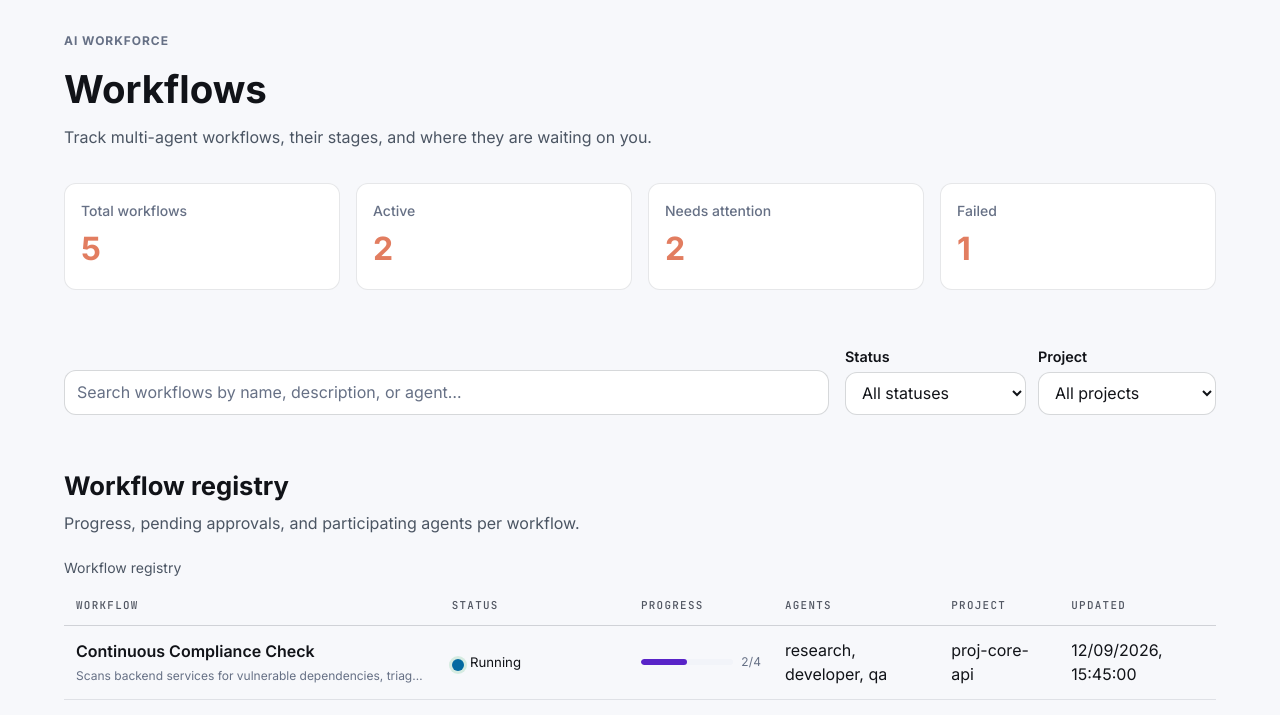
Workflows Page Suite › filters workflows by search query
Type "ledger" into the search field labelled "Search workflows by name, description, or agent…" at (446, 392), box [64, 370, 829, 415]
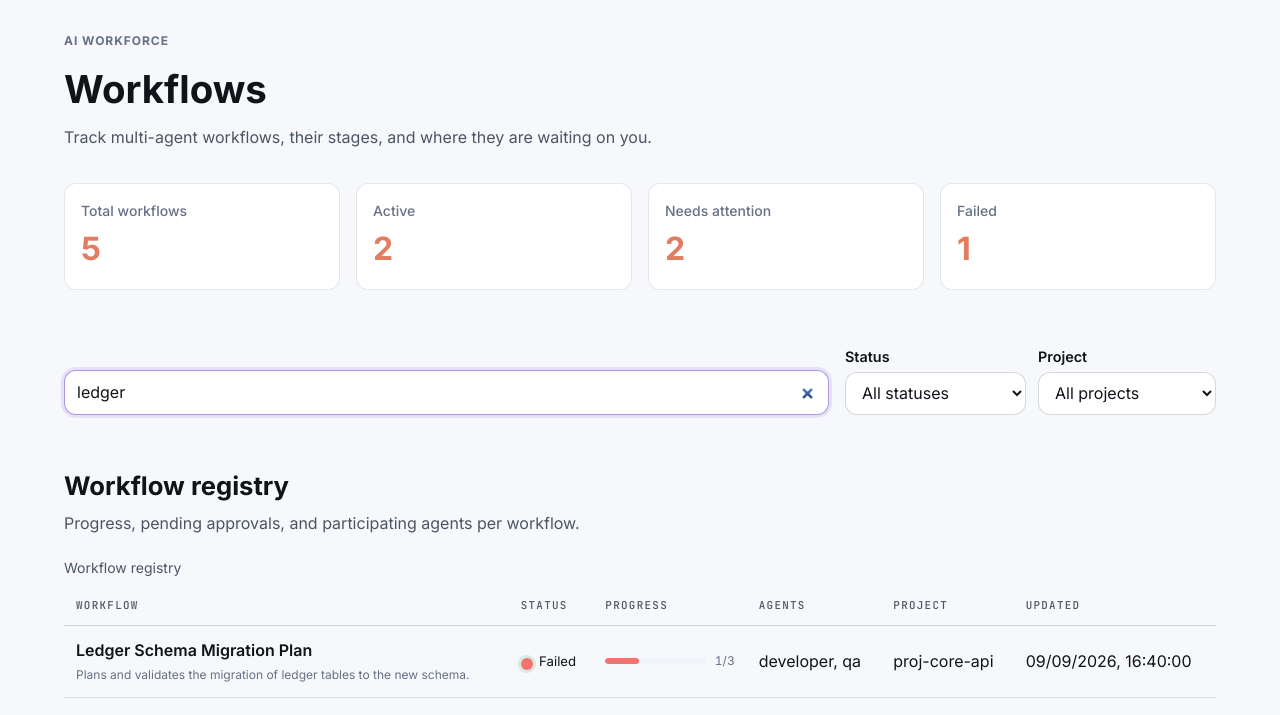
Expected: the text "Ledger Schema Migration Plan" is shown, [76, 640, 312, 660]
Expected: the link "Continuous Compliance Check" is gone
